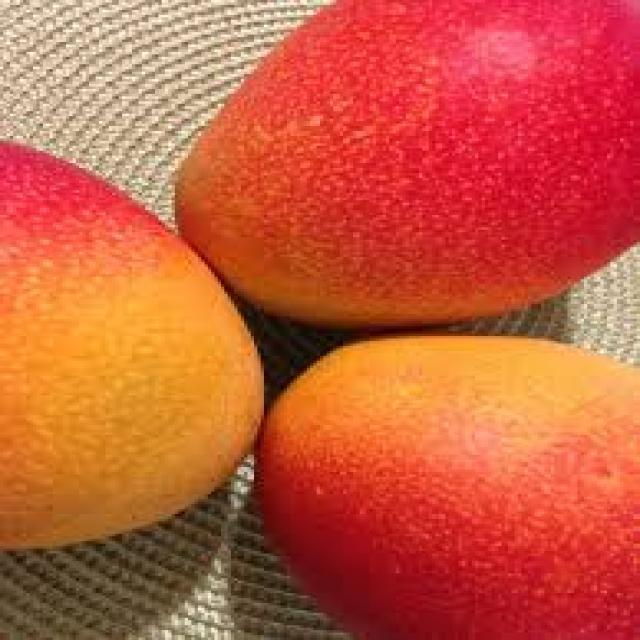Mango: (168, 0, 637, 329), (250, 331, 636, 638), (0, 136, 264, 551)
